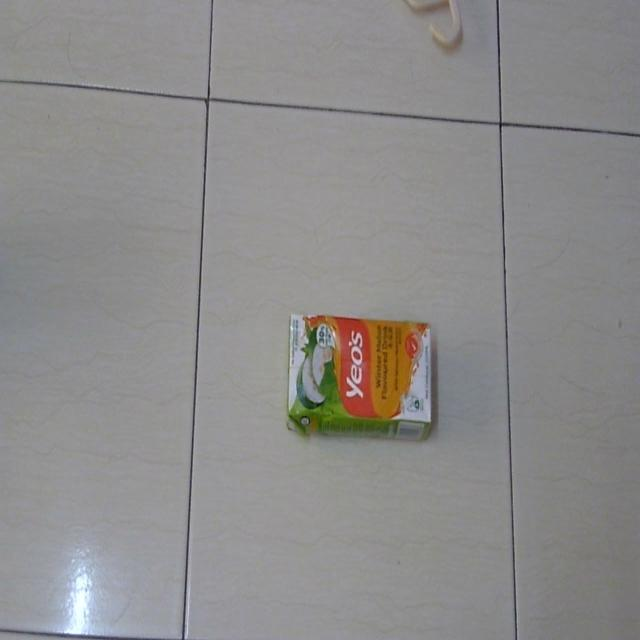plastic_laydown_0rotation: (286, 309, 435, 442)
